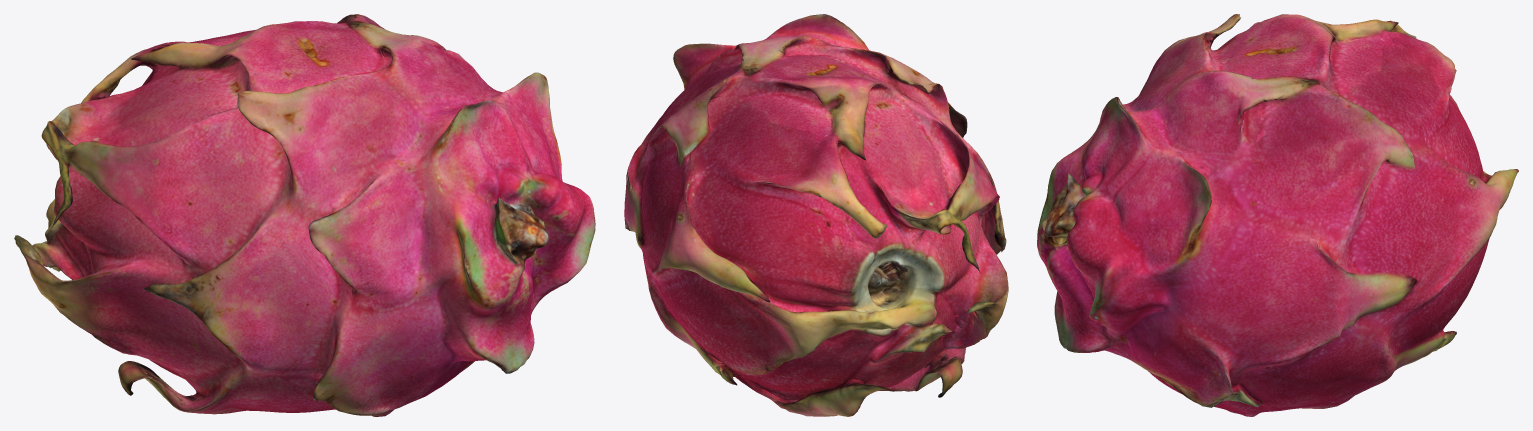
File: dragon_fruit.glb
The picture shows the model from 3 angles, left to right: view 1: azimuth 30°, elevation 25°; view 2: azimuth 150°, elevation 25°; view 3: azimuth 270°, elevation 25°; orthographic projection. The views are drawn at different scales.
Parts seen in each view (by area): view 1: meshNode; view 2: meshNode; view 3: meshNode.
Part boxes in pixels (x1,y1,x2,y2): meshNode: (14,14,595,416); meshNode: (624,14,1008,416); meshNode: (1037,14,1518,416).
Bounding box in the file's own units: 2.25 × 1.73 × 2.18.
1 material, 1 textured.
